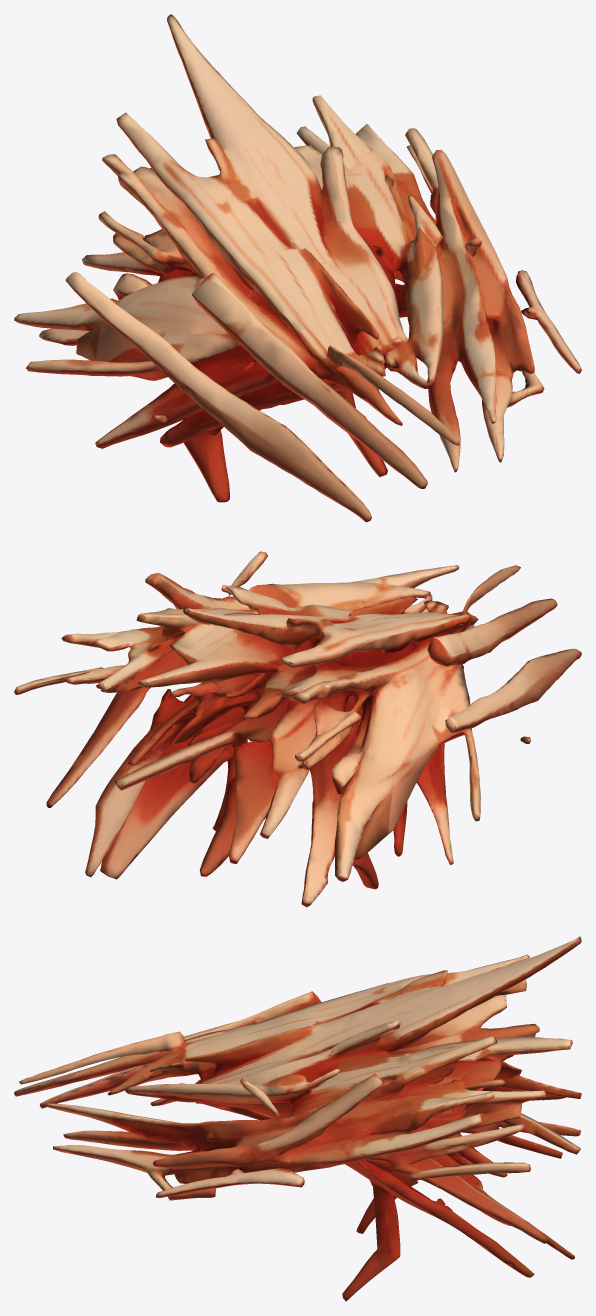
Rendered from toothpicks.glb.
The picture shows the model from 3 angles, top to bottom: view 1: azimuth 30°, elevation 25°; view 2: azimuth 150°, elevation 25°; view 3: azimuth 270°, elevation 25°; orthographic projection. The views are drawn at different scales.
Visible parts, largest first — view 1: geometry_0.003; view 2: geometry_0.003; view 3: geometry_0.003.
Boxes of the visible parts, x1,y1,x2,y2 form: geometry_0.003: (14,14,581,522); geometry_0.003: (14,551,581,907); geometry_0.003: (14,936,581,1301).
Bounding box in the file's own units: 0.7854 × 0.6445 × 1.
Materials: 1 (1 with a texture image).
